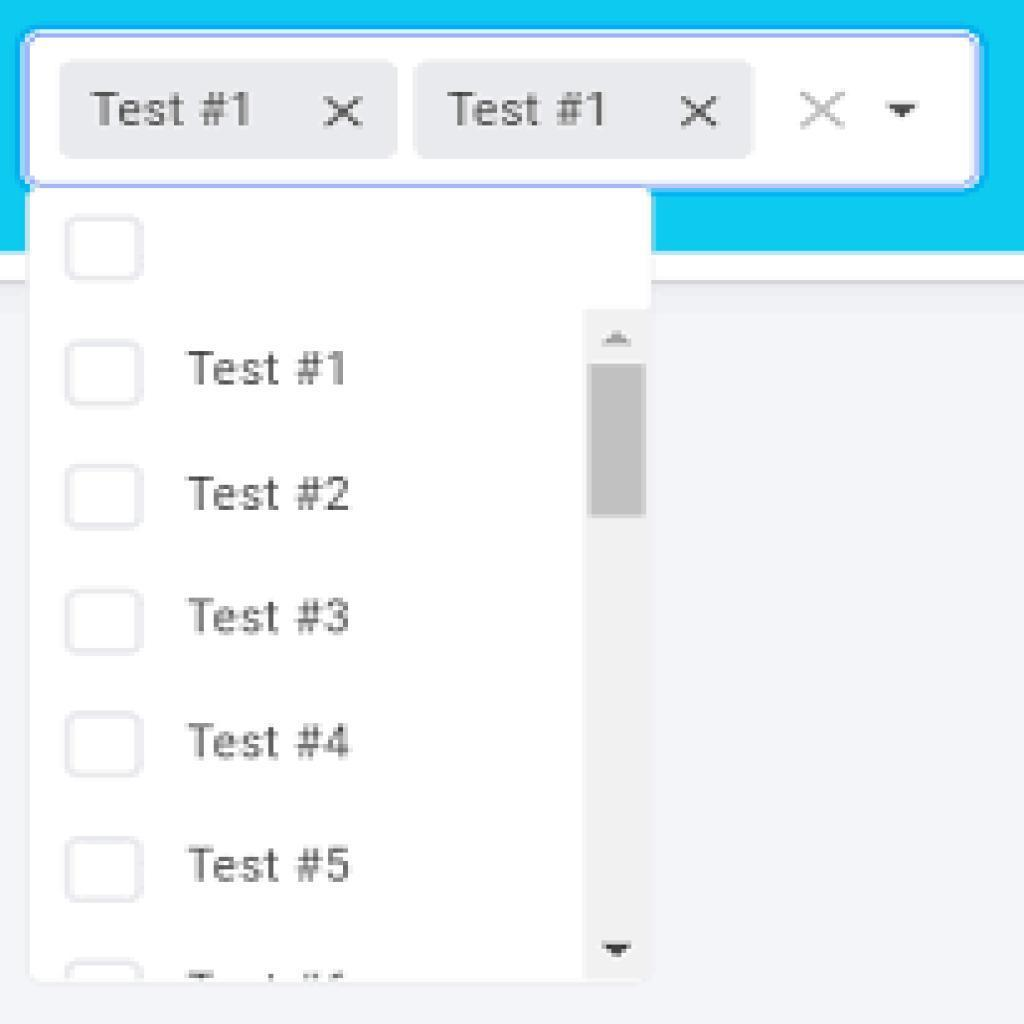checkbox: (64, 588, 146, 658), (67, 341, 146, 411), (66, 464, 146, 533), (67, 711, 146, 780), (68, 219, 146, 284), (67, 838, 141, 901)
dropdown: (20, 27, 986, 194)
label: (184, 342, 350, 398), (181, 591, 358, 643), (187, 467, 356, 521), (185, 841, 361, 892), (185, 715, 358, 764)
